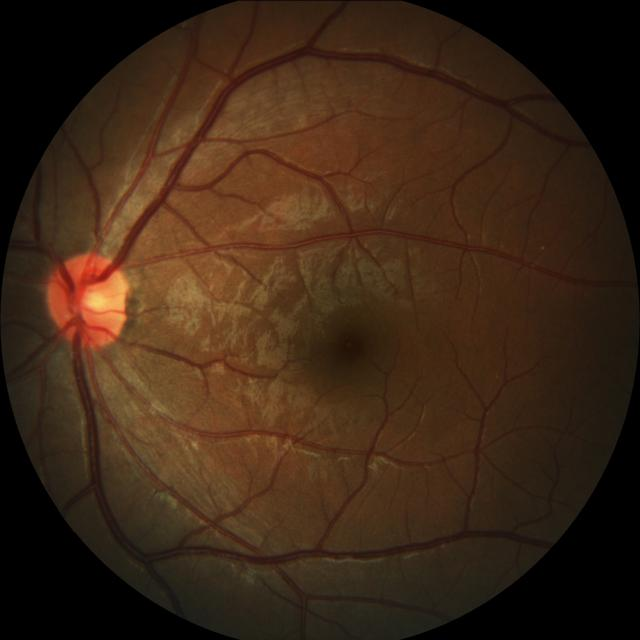OC: (67, 274, 115, 328)
OD: (49, 250, 132, 346)
